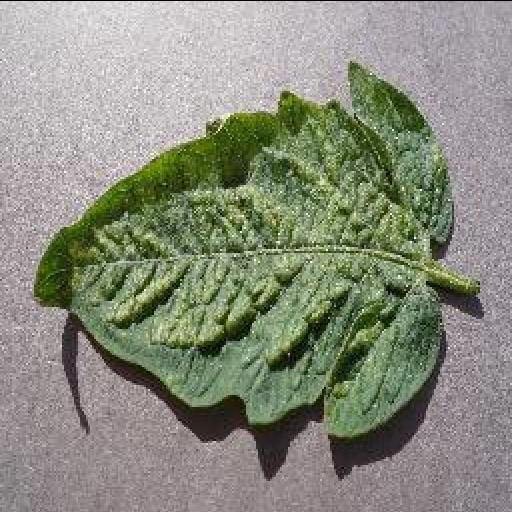disease_tomato: (32, 62, 454, 438)
